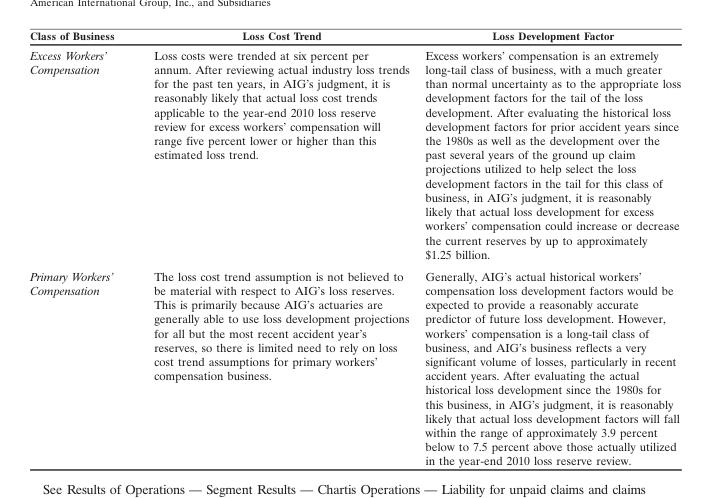table: (29, 28, 680, 467)
table column: (133, 28, 416, 467), (416, 28, 680, 467), (29, 28, 133, 467)
table column header: (29, 28, 680, 44)
table row: (29, 44, 680, 264), (29, 264, 680, 467), (29, 28, 680, 44)
